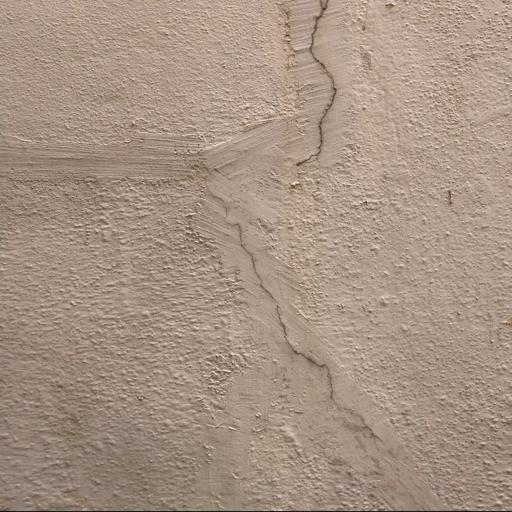minor_crack: (191, 184, 397, 451), (282, 0, 369, 172)
